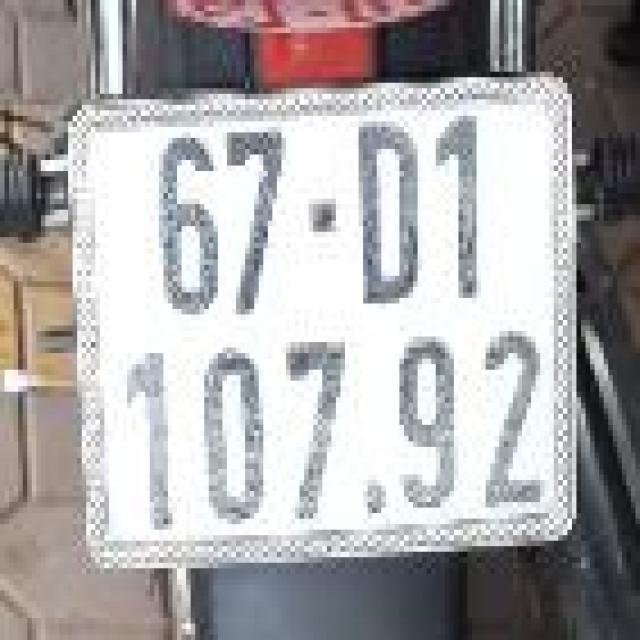0: (193, 328, 279, 549)
1: (422, 83, 495, 303), (116, 339, 179, 538)
2: (467, 320, 563, 546)
6: (148, 130, 229, 317)
7: (272, 326, 354, 540), (218, 116, 290, 309)
9: (388, 320, 456, 519)
D: (347, 113, 438, 317)
